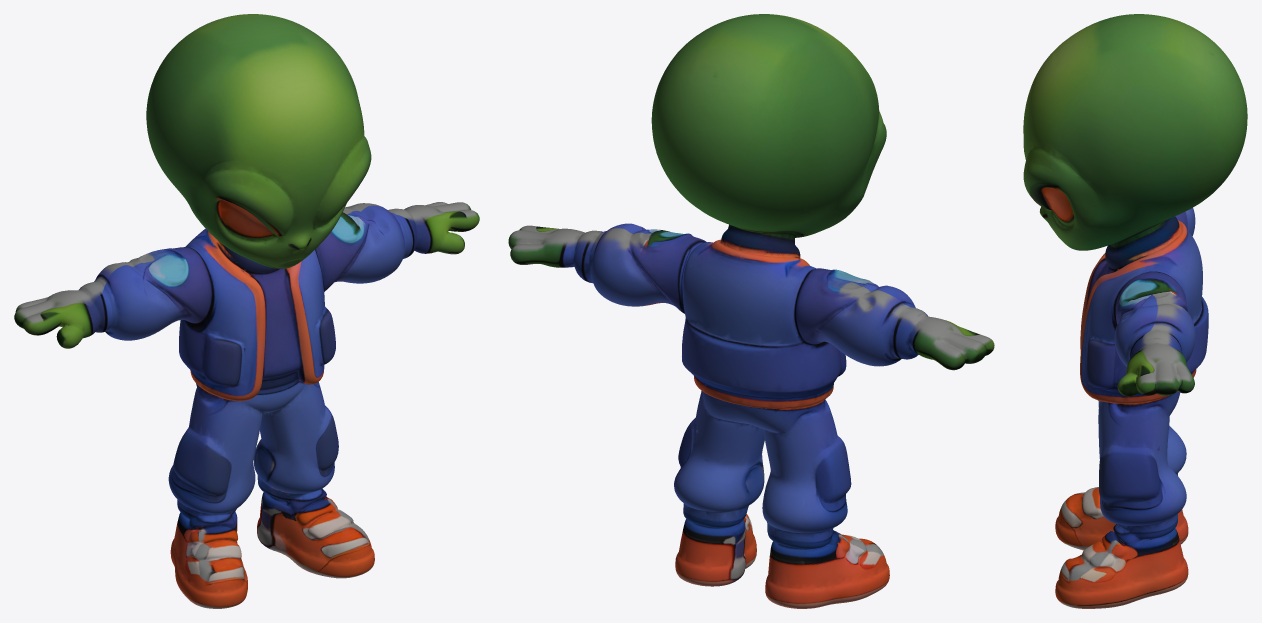
Rendered from tripo_convert_0f1b6d5d-dea9-4bf1-9420-727951505ccf.fbx.
The picture shows the model from 3 angles, left to right: view 1: azimuth 30°, elevation 25°; view 2: azimuth 150°, elevation 25°; view 3: azimuth 270°, elevation 25°; orthographic projection. The views are drawn at different scales.
Parts seen in each view (by area): view 1: tripo_node_0f1b6d5d; view 2: tripo_node_0f1b6d5d; view 3: tripo_node_0f1b6d5d.
Boxes of the visible parts, x1=… form: tripo_node_0f1b6d5d: x1=14, y1=14, x2=479, y2=608; tripo_node_0f1b6d5d: x1=508, y1=14, x2=994, y2=608; tripo_node_0f1b6d5d: x1=1023, y1=14, x2=1247, y2=608.
Size of the model in its own units: 87.44 by 37.15 by 100.
1 material, 1 textured.
